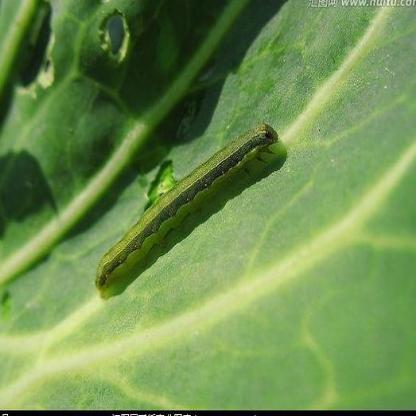armyworm: (68, 101, 299, 328)
